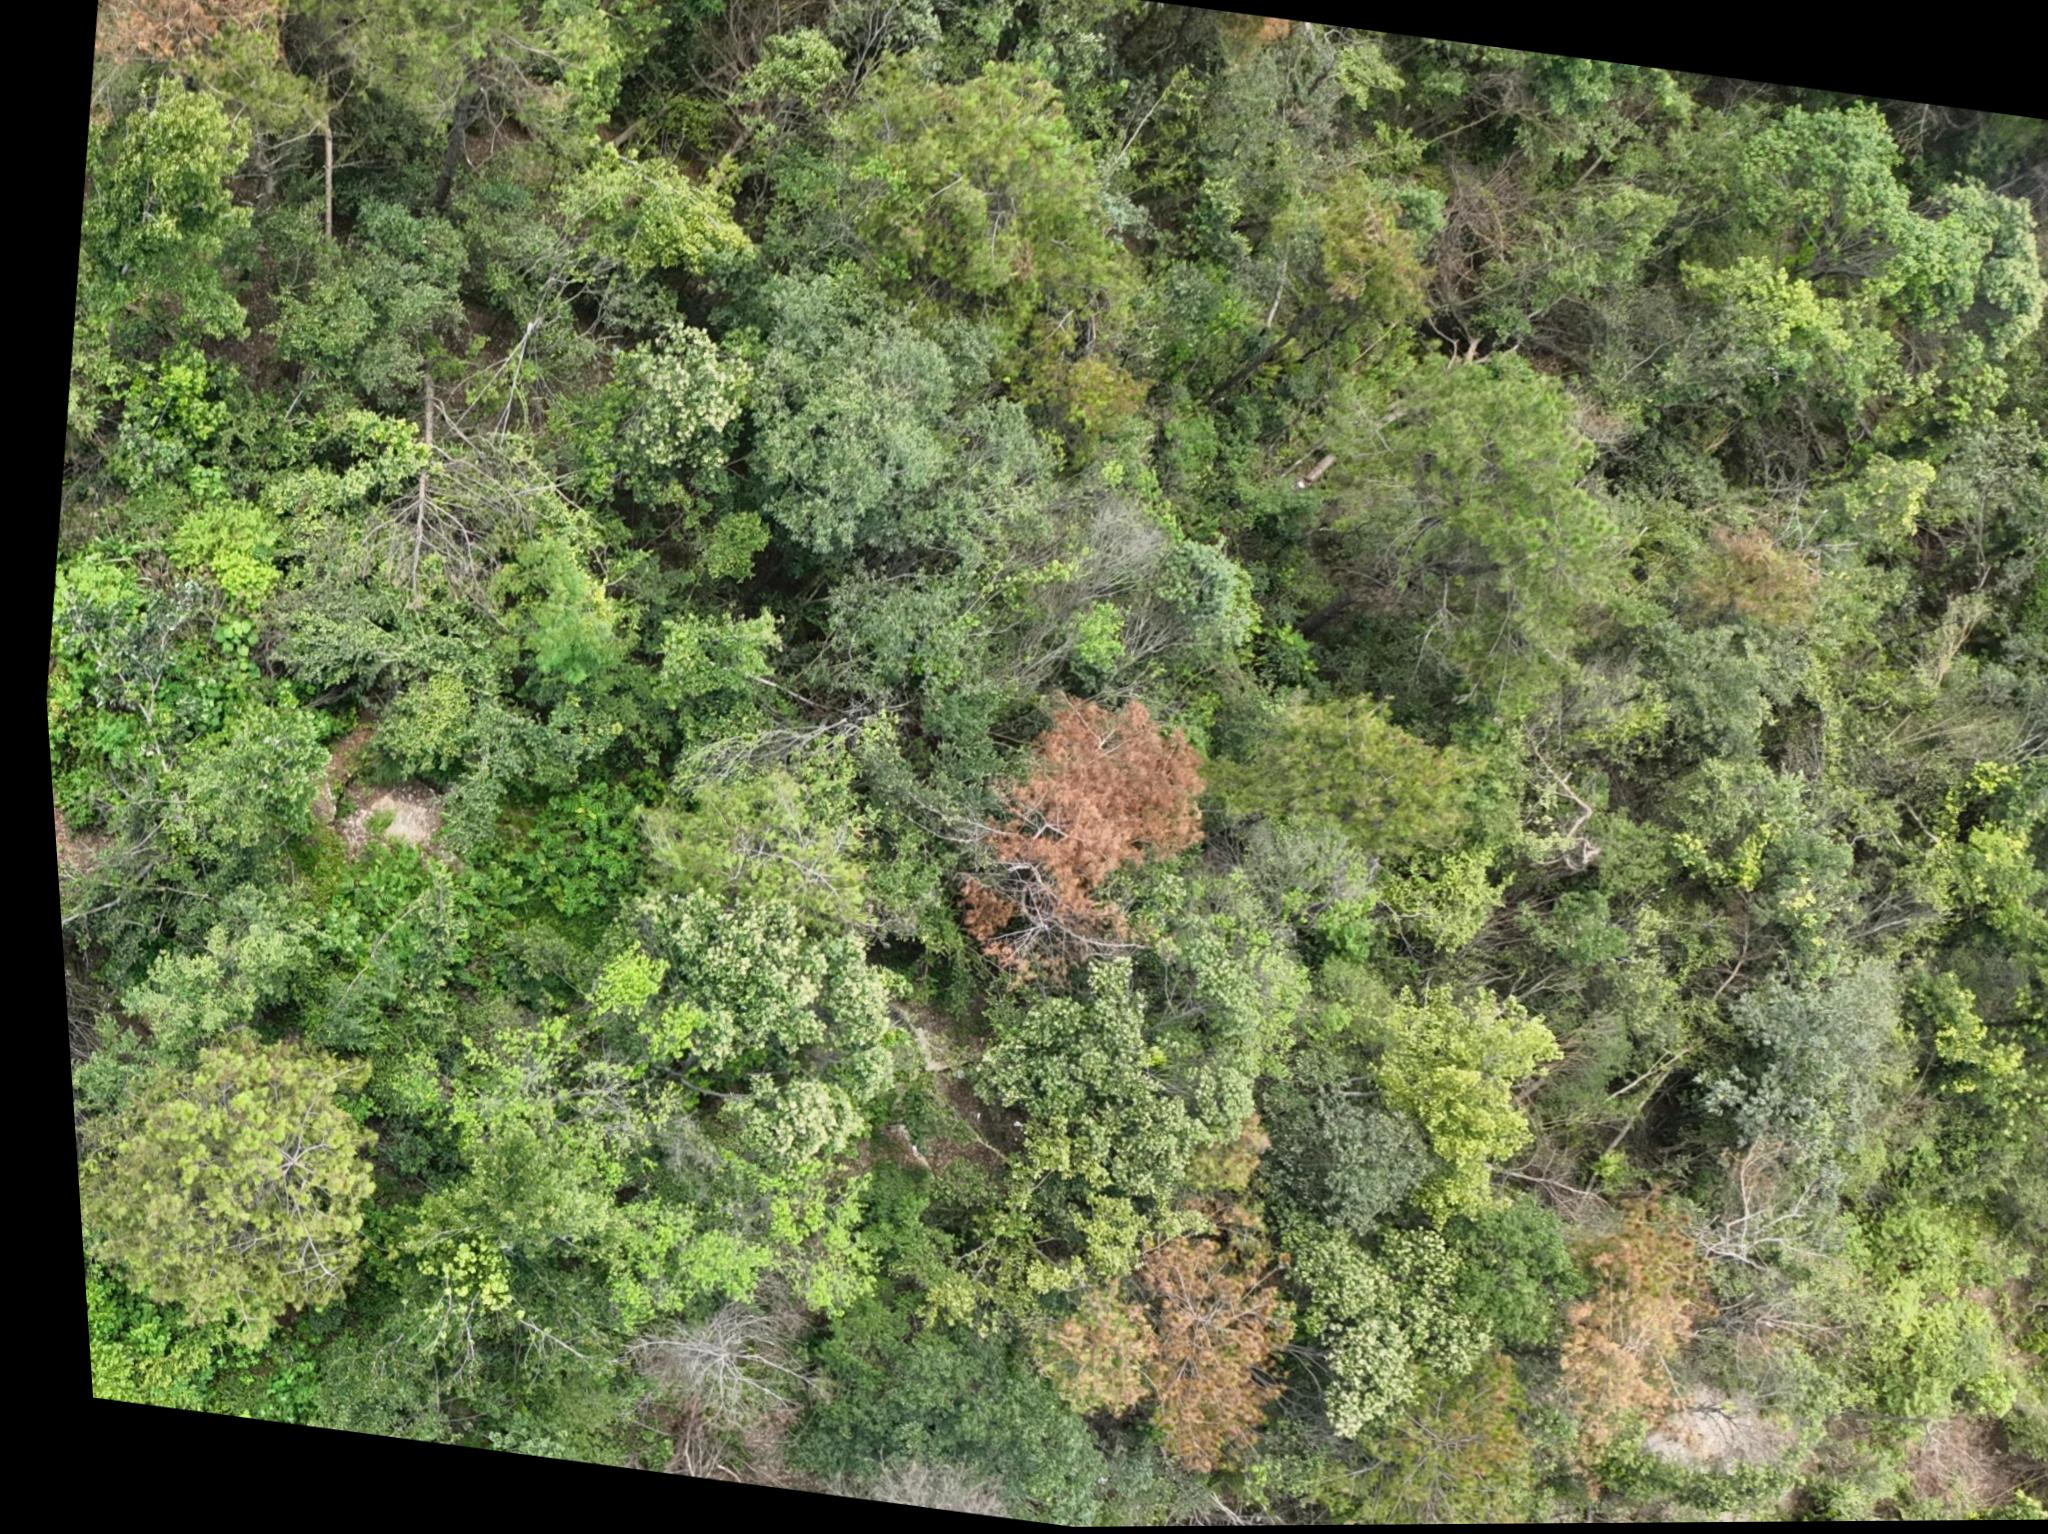dead: (607, 1284, 801, 1452)
heavy: (1036, 1160, 1321, 1495), (927, 680, 1217, 1004), (1524, 1213, 1694, 1478), (92, 0, 290, 87)
